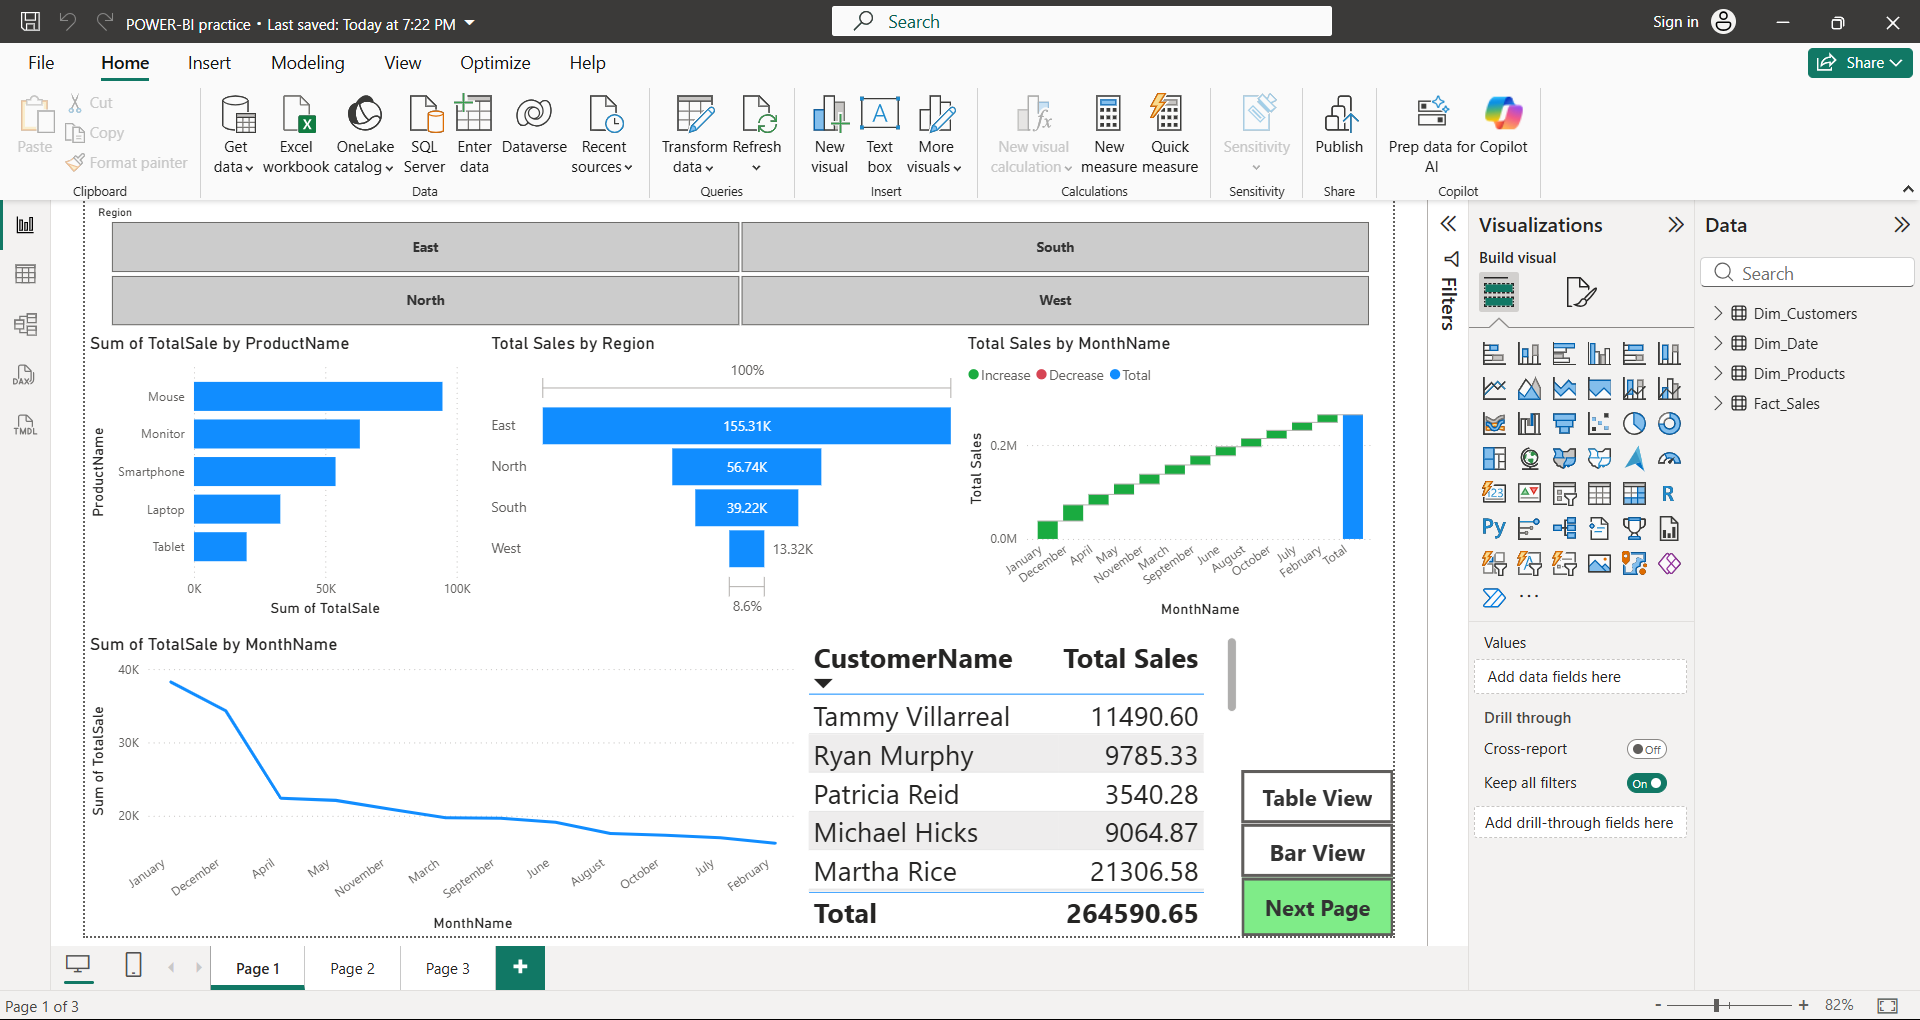

The dashboard page shown, as its layout file describes it:
{"tool":"powerbi","page":{"name":"Page 1","canvas":[1280,720],"ordinal":0},"visuals":[{"type":"barChart","fields":{"Category":["Dim_Products.ProductName"],"Y":["Sum(Fact_Sales.TotalSale)"]},"box":[0,129.6,382.7,282.5],"z":0},{"type":"lineChart","fields":{"Category":["Dim_Date.MonthName"],"Y":["Sum(Fact_Sales.TotalSale)"]},"box":[0,424.3,701.9,295.9],"z":1000},{"type":"funnel","fields":{"Category":["Dim_Customers.Region"],"Y":["Fact_Sales.Total Sales"]},"box":[392.5,129.6,464.7,282.5],"z":2000},{"type":"waterfallChart","fields":{"Category":["Dim_Date.MonthName"],"Y":["Fact_Sales.Total Sales"]},"box":[858.4,129.6,407.2,283.7],"z":3000},{"type":"slicer","fields":{"Values":["Dim_Customers.Region"]},"box":[0,0,1280.3,129.6],"z":4000},{"type":"actionButton","box":[1131.1,662.8,149.2,57.5],"z":4001},{"type":"tableEx","fields":{"Values":["Dim_Customers.CustomerName","Fact_Sales.Total Sales"]},"box":[701.3,423.7,429.5,296.4],"z":4003},{"type":"actionButton","box":[1130.8,610.2,148.9,52.1],"z":4004},{"type":"actionButton","box":[1130.8,558.2,148.9,52.1],"z":4005}]}

Visuals, with their boxes on the page's 1280x720 design canvas (x1, y1, x2, y2). These are canvas units, not pixel positions in the 1920x1020 screenshot, which may show the page scaled, cropped or inside an application window:
barChart - Dim_Products.ProductName x Sum(Fact_Sales.TotalSale): pyautogui.locateOnScreen(0, 130, 383, 412)
lineChart - Dim_Date.MonthName x Sum(Fact_Sales.TotalSale): pyautogui.locateOnScreen(0, 424, 702, 720)
funnel - Dim_Customers.Region x Fact_Sales.Total Sales: pyautogui.locateOnScreen(392, 130, 857, 412)
waterfallChart - Dim_Date.MonthName x Fact_Sales.Total Sales: pyautogui.locateOnScreen(858, 130, 1266, 413)
slicer - Dim_Customers.Region: pyautogui.locateOnScreen(0, 0, 1280, 130)
actionButton: pyautogui.locateOnScreen(1131, 663, 1280, 720)
tableEx - Dim_Customers.CustomerName x Fact_Sales.Total Sales: pyautogui.locateOnScreen(701, 424, 1131, 720)
actionButton: pyautogui.locateOnScreen(1131, 610, 1280, 662)
actionButton: pyautogui.locateOnScreen(1131, 558, 1280, 610)
